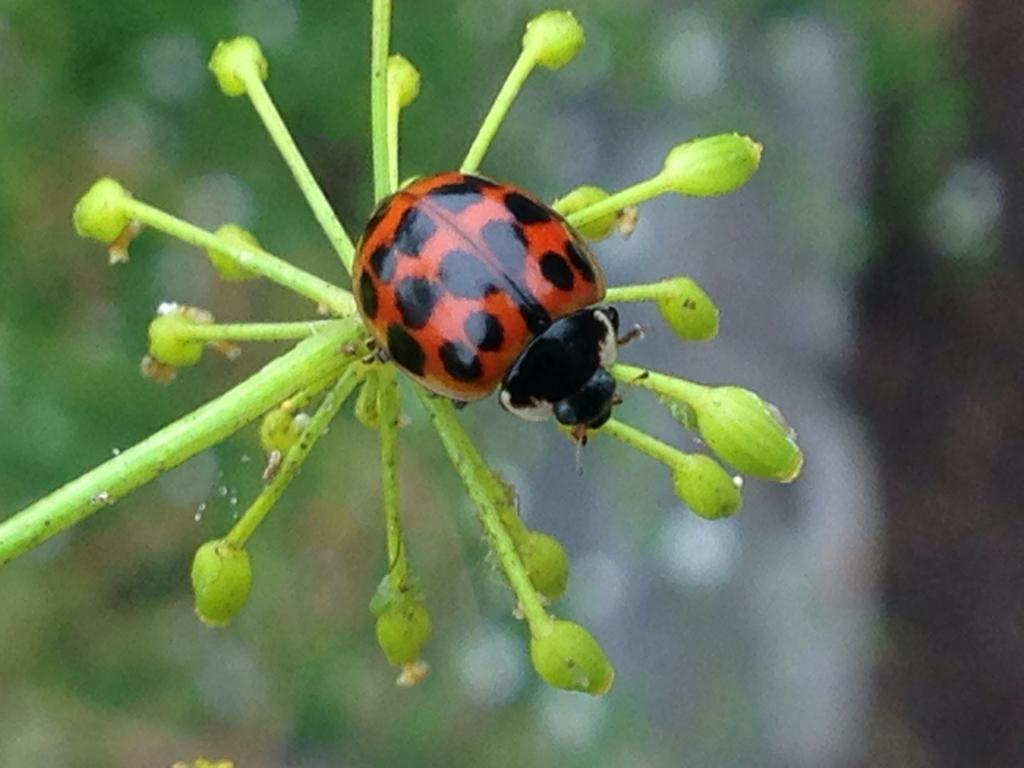ladybug: (345, 165, 659, 483)
